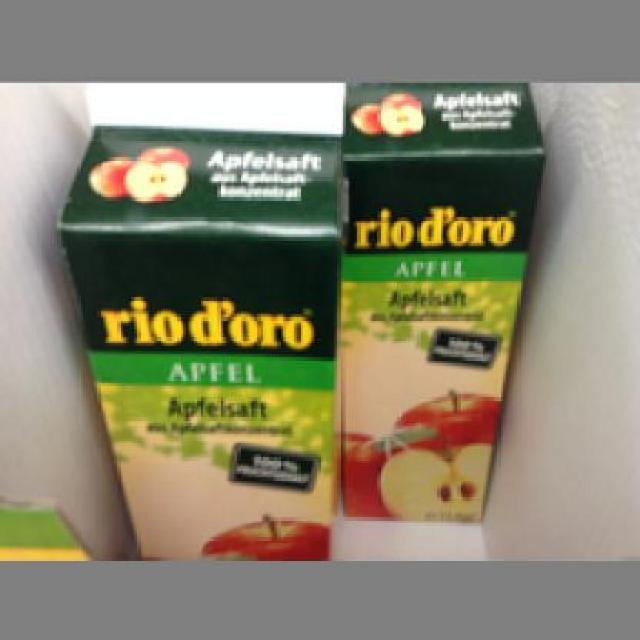Juice: (54, 79, 337, 555), (328, 83, 544, 520)
